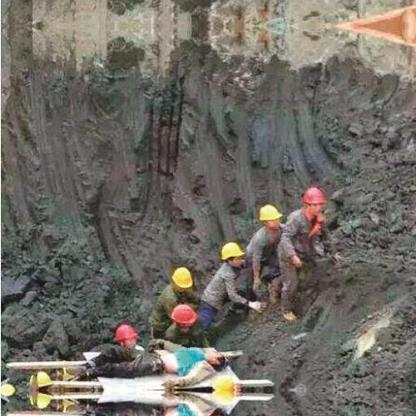helmet: (168, 302, 200, 331), (301, 184, 325, 217), (112, 322, 139, 351), (256, 202, 280, 233), (218, 240, 243, 269), (171, 262, 194, 293)
